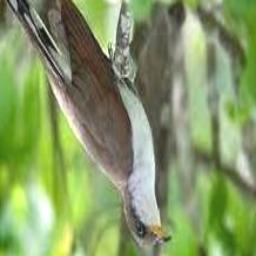Cuckoo: (0, 0, 171, 248)
